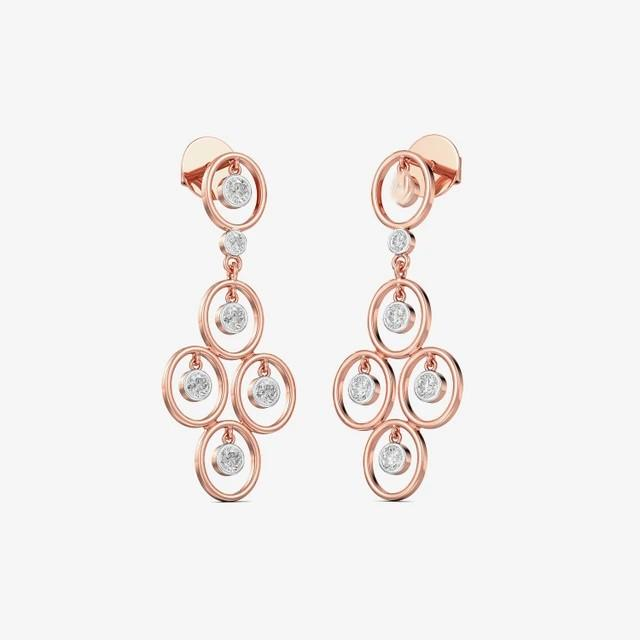missing gem: (391, 172, 415, 204)
